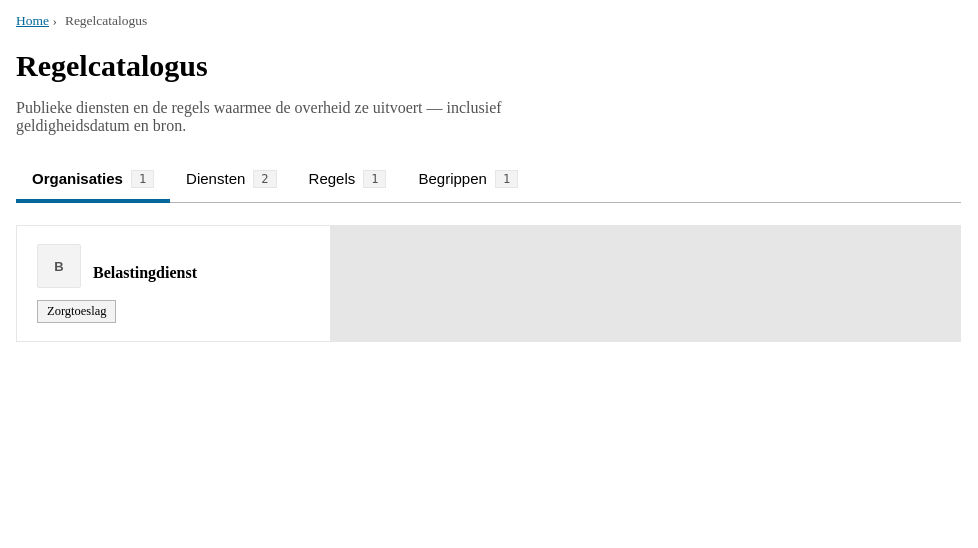
Test: Regelcatalogus › Rules tab: an expanded rule description collapses again on a second click
Step 1. Click the tab "Regels 1" → (347, 181), box [292,159,402,203]
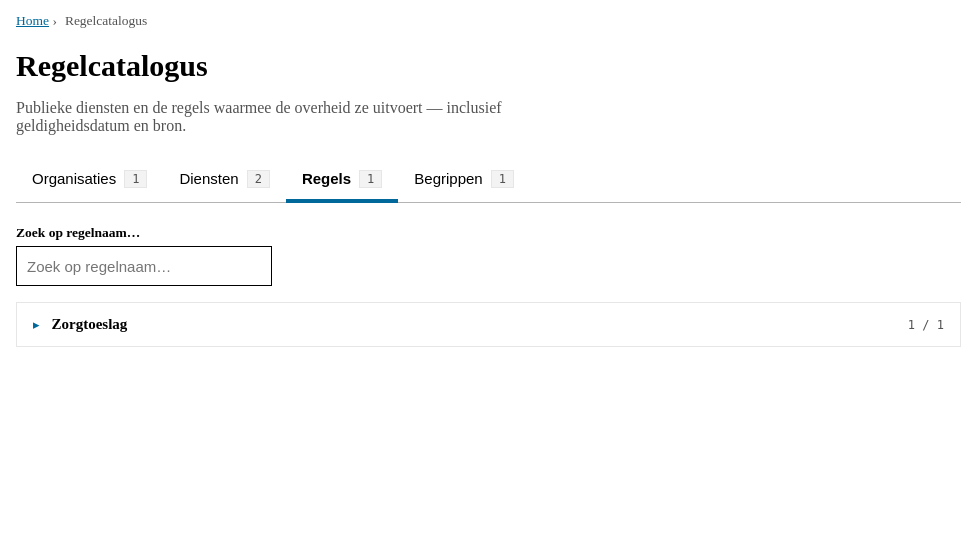
Step 2. Click the heading "Zorgtoeslag 1 / 1" → (89, 324), box [52,316,944,332]
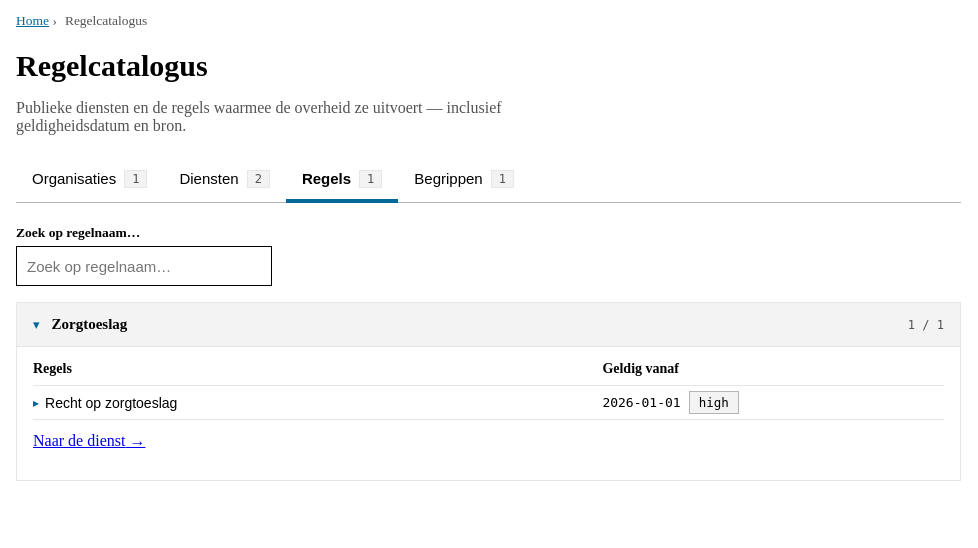
Step 3. Click the button "▸ Recht op zorgtoeslag" → (105, 403), box [33,395,177,411]
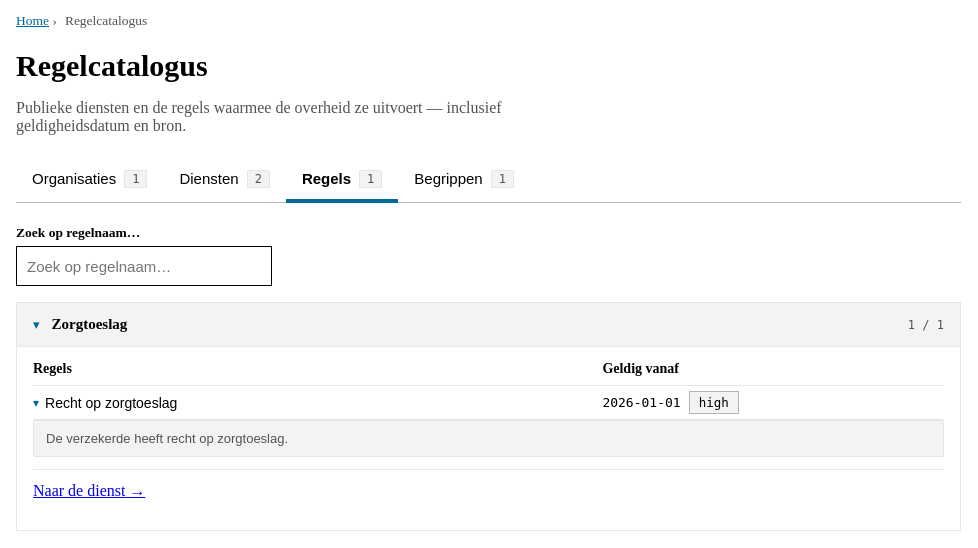
Expected: the text "De verzekerde heeft recht op zorgtoeslag." is shown, [33,420,944,457]
Step 4. Click the button "▾ Recht op zorgtoeslag" → (105, 403), box [33,395,177,411]
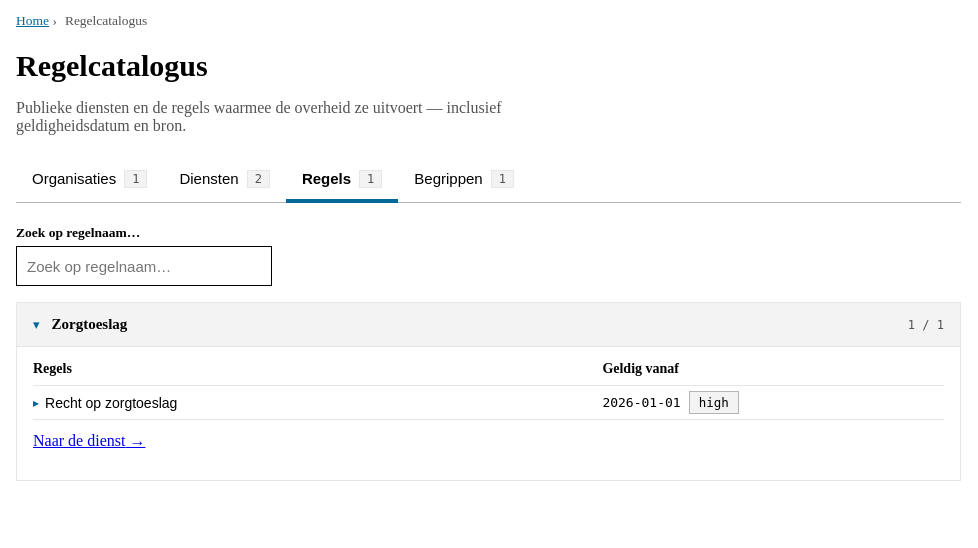
Expected: the text "De verzekerde heeft recht" is gone
